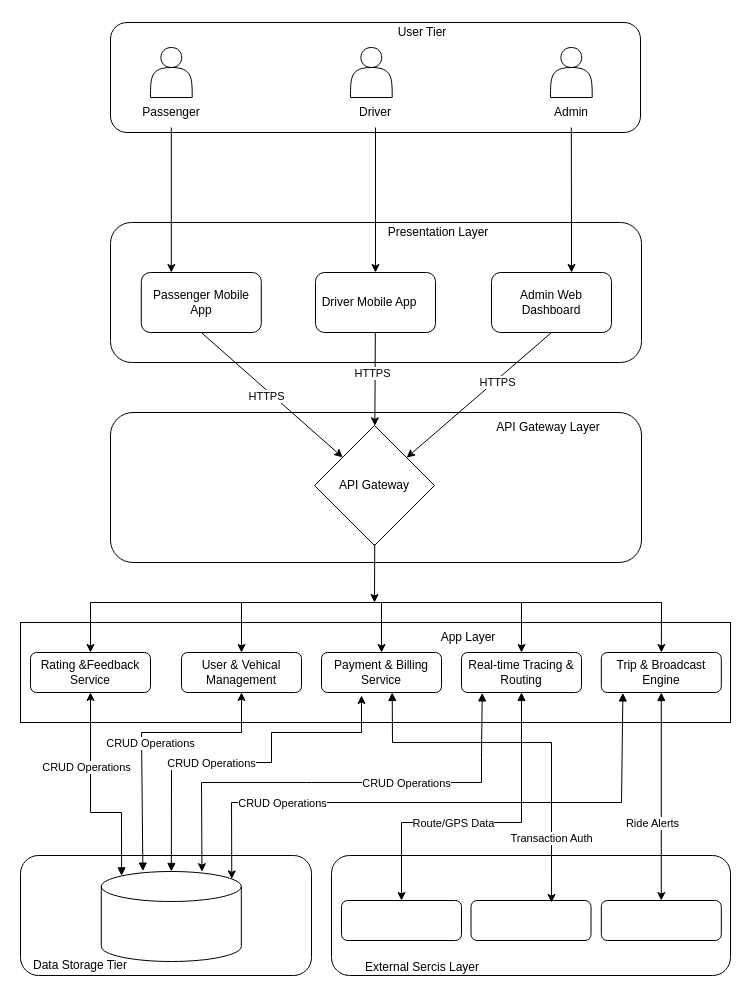
The diagram is 748 pixels wide and 999 high, and some of its shapes have lost their labels. Each missing label, with the box of its shape:
Google Maps API: (340, 900, 462, 940)
MySQL Database: (100, 870, 241, 962)
Payement Gateway: (470, 900, 591, 940)
SMS/Push Notification Service: (600, 900, 721, 940)
